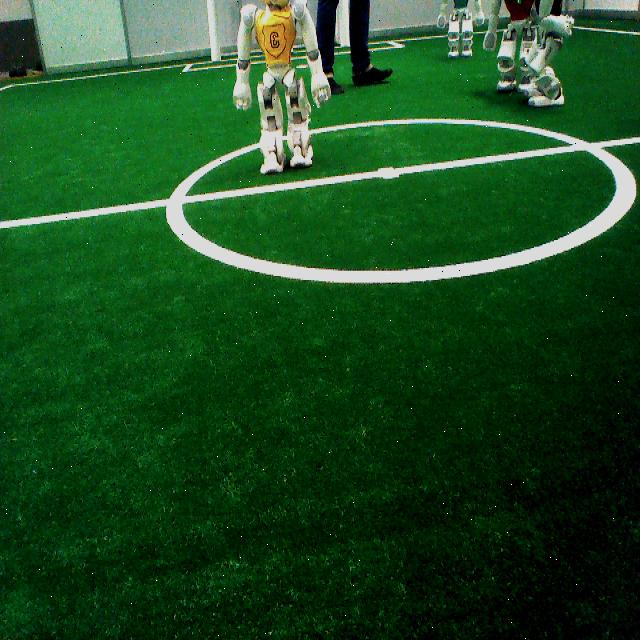goalpost: (206, 1, 221, 62), (340, 1, 353, 48)
